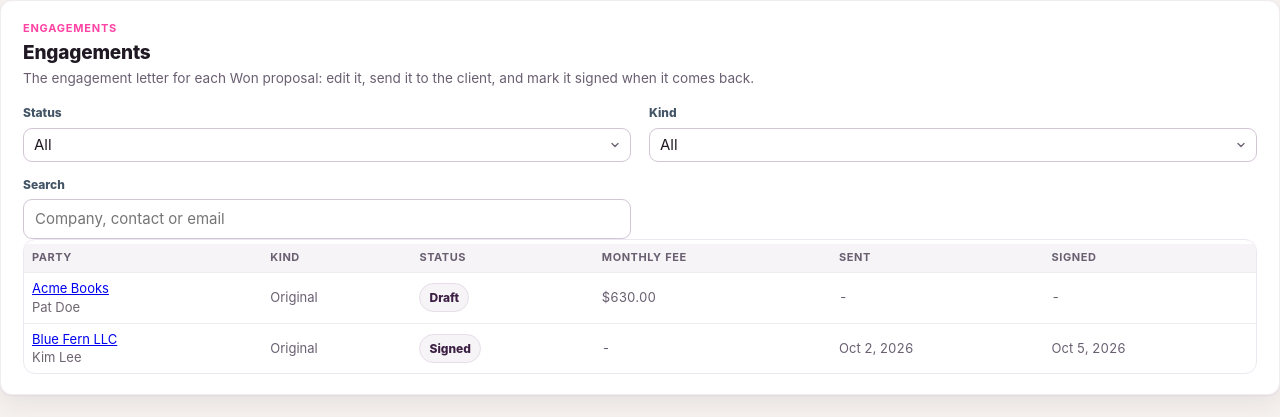
Test case: the Engagements list › a filter that matches nothing says no engagements match, not that there are none yet
Expected: the link "Acme Books" is shown, [32,280,109,296]
Select "Void" in the dropdown named "Status filter" at (327, 145), box [23,128,631,162]
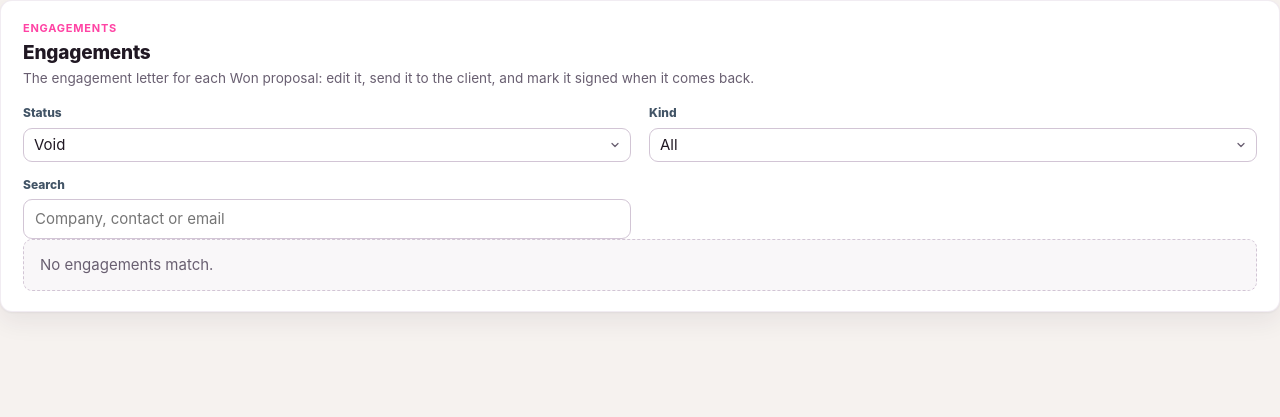
Expected: the text "No engagements match." is shown, [23,239,1257,291]
